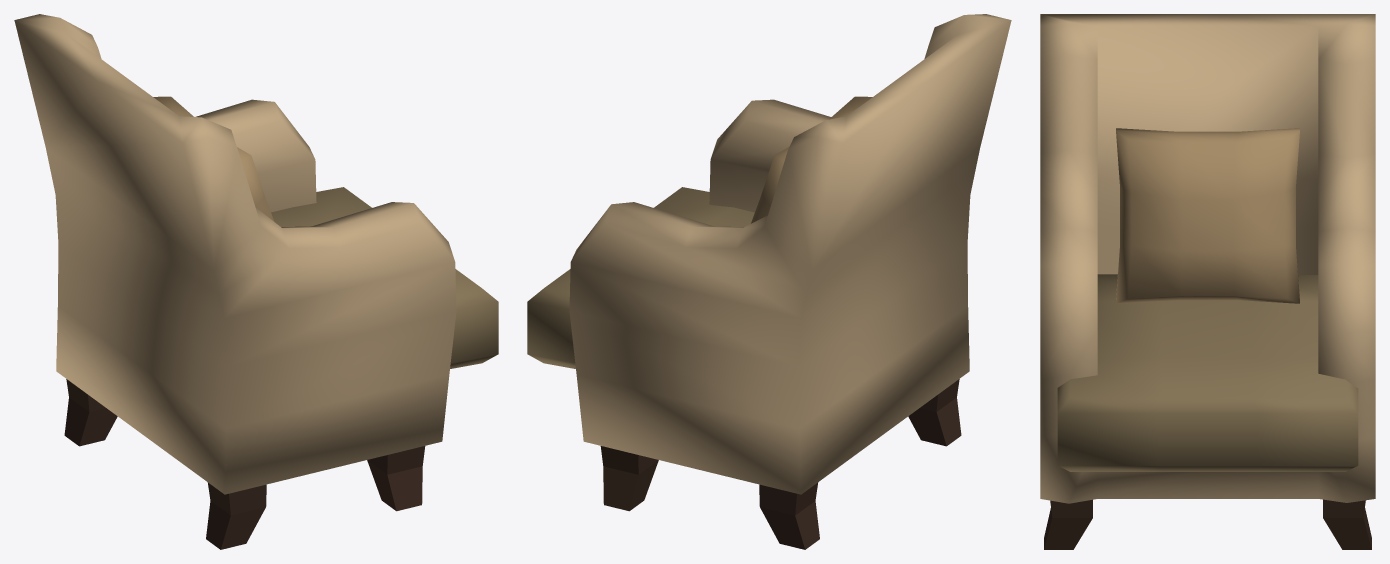
The model's file is LoungeChair.fbx.
The picture shows the model from 3 angles, left to right: view 1: azimuth 30°, elevation 25°; view 2: azimuth 150°, elevation 25°; view 3: azimuth 270°, elevation 25°; orthographic projection.
Parts seen in each view (by area): view 1: LoungeChair; view 2: LoungeChair; view 3: LoungeChair.
Part boxes in pixels (box(x1,y1,x2,y2)): LoungeChair: box(14, 14, 498, 549); LoungeChair: box(527, 14, 1011, 549); LoungeChair: box(1040, 14, 1375, 549).
Size of the model in its own units: 1.02 by 1.28 by 0.914.
